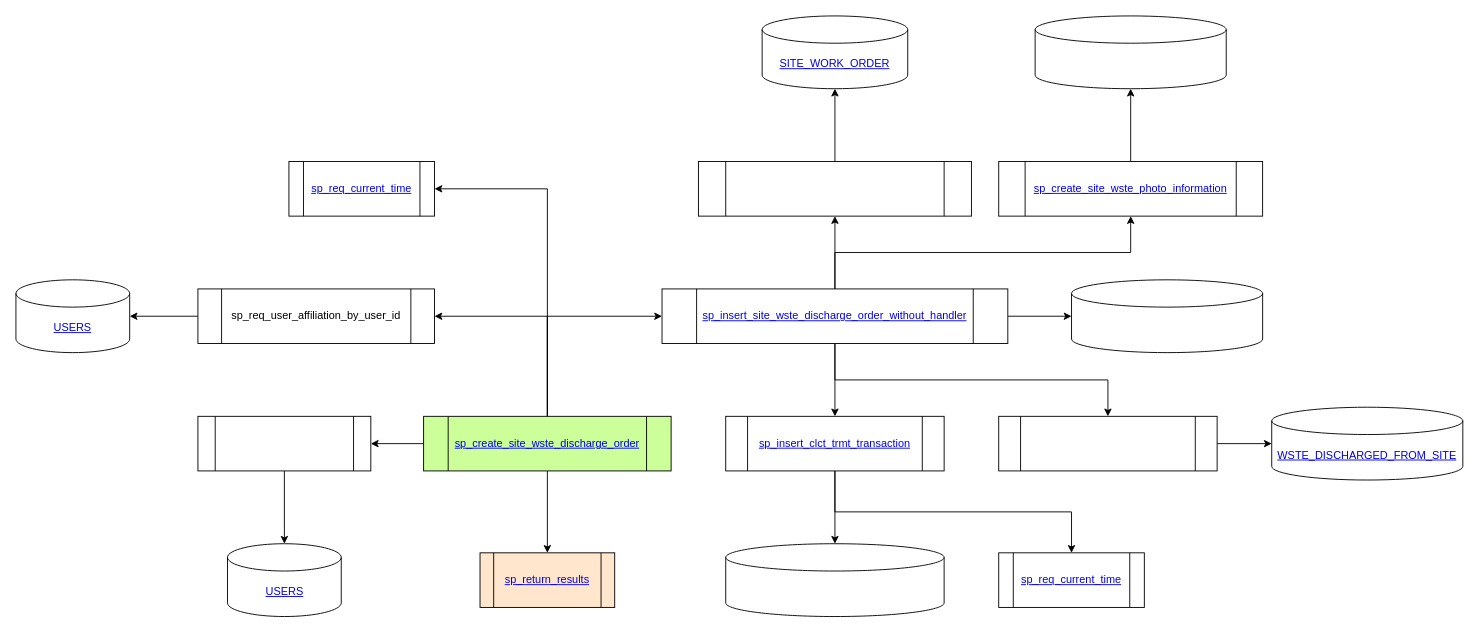
Image size: 1479x632. Some labels were removed from this diagram. Here are the shapes that lost their labels. From the top down, the box of each, then its label:
(1034, 15, 1226, 89): WSTE_REGISTRATION_PHOTO
(698, 161, 971, 216): sp_req_service_instruction_id_of_site
(1071, 279, 1263, 353): SITE_WSTE_DISPOSAL_ORDER
(197, 415, 371, 471): sp_req_user_exists_by_id
(998, 415, 1217, 471): sp_create_site_wste_discharged
(725, 543, 944, 617): WSTE_CLCT_TRMT_TRANSACTION
